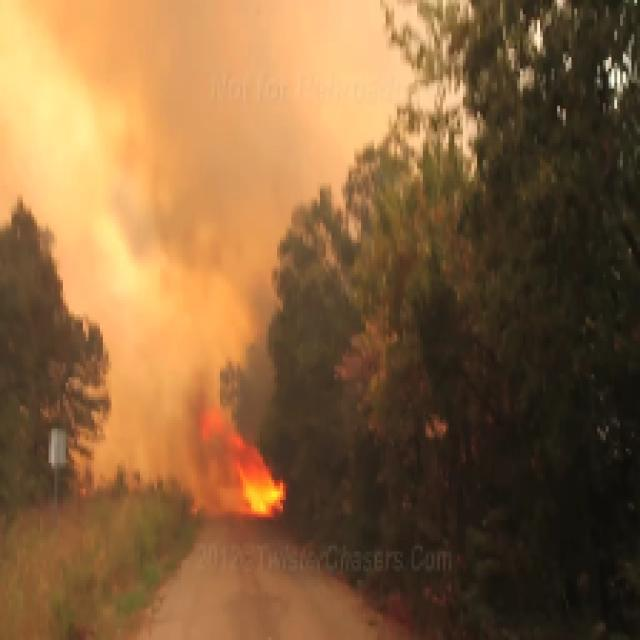Fire: (214, 434, 294, 514)
Smoke: (137, 42, 266, 252)
